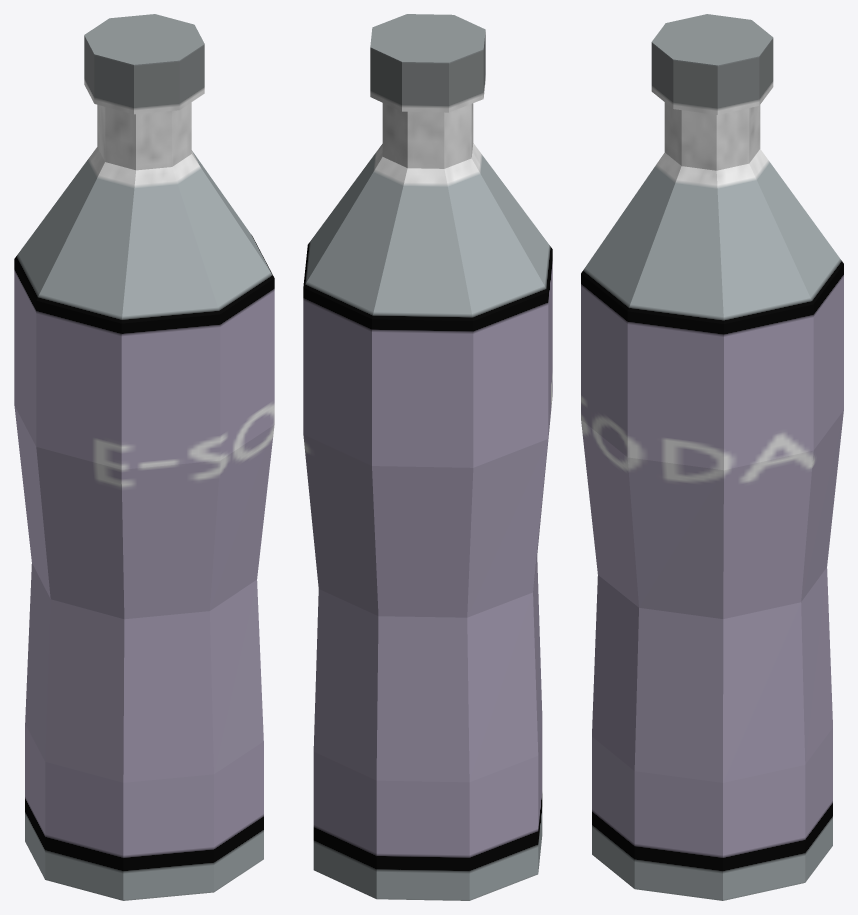
The model's file is bottle 9.FBX.
3 renders of one model, left to right at view 1: azimuth 30°, elevation 25°; view 2: azimuth 150°, elevation 25°; view 3: azimuth 270°, elevation 25°, orthographic.
Visible parts, largest first — view 1: 礦泉水078; view 2: 礦泉水078; view 3: 礦泉水078.
Boxes of the visible parts, box(x1,y1,x2,y2) form: 礦泉水078: box(14, 14, 274, 900); 礦泉水078: box(303, 14, 552, 900); 礦泉水078: box(581, 14, 843, 900).
Size of the model in its own units: 38.19 by 130 by 38.19.
Materials: 1 (1 with a texture image).
